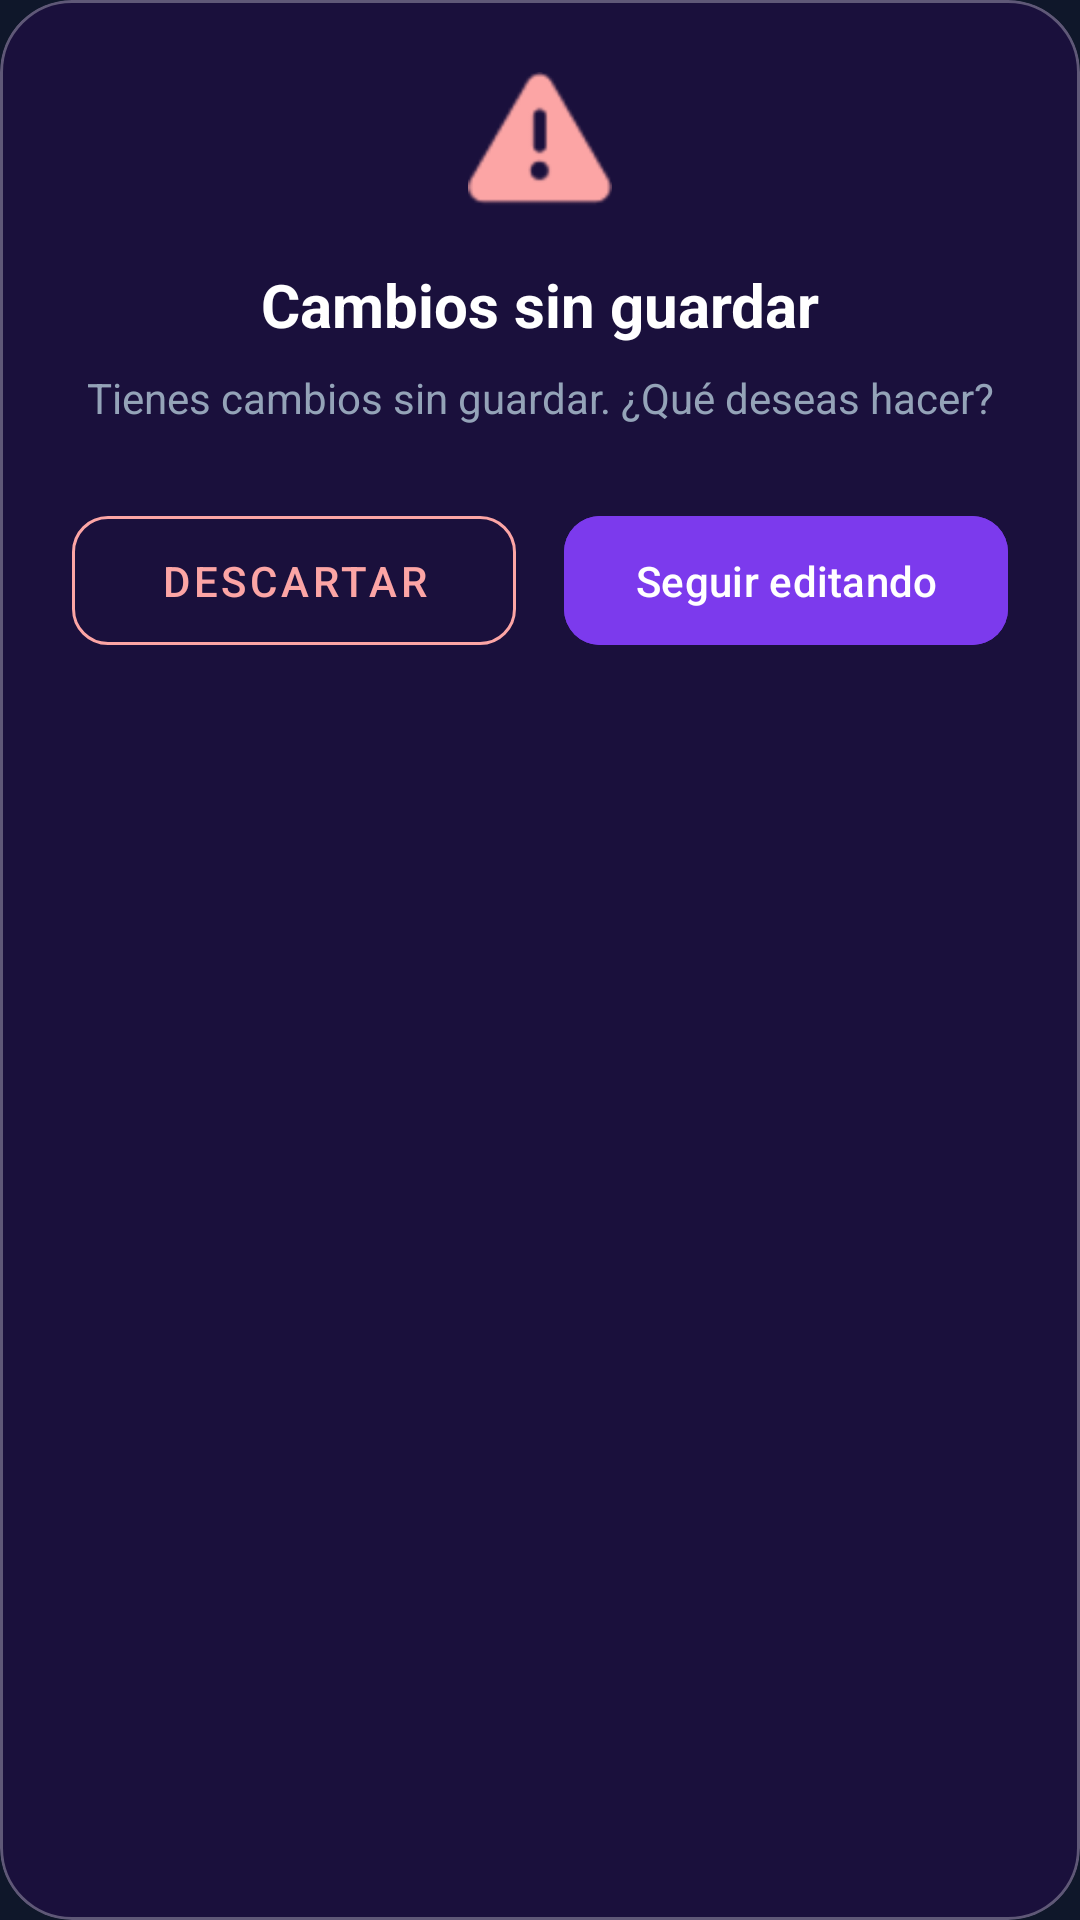

Where to tap for icons on this 1080px x 1920px app screen, as (x=x, y=y):
alert: (x=540, y=137)
